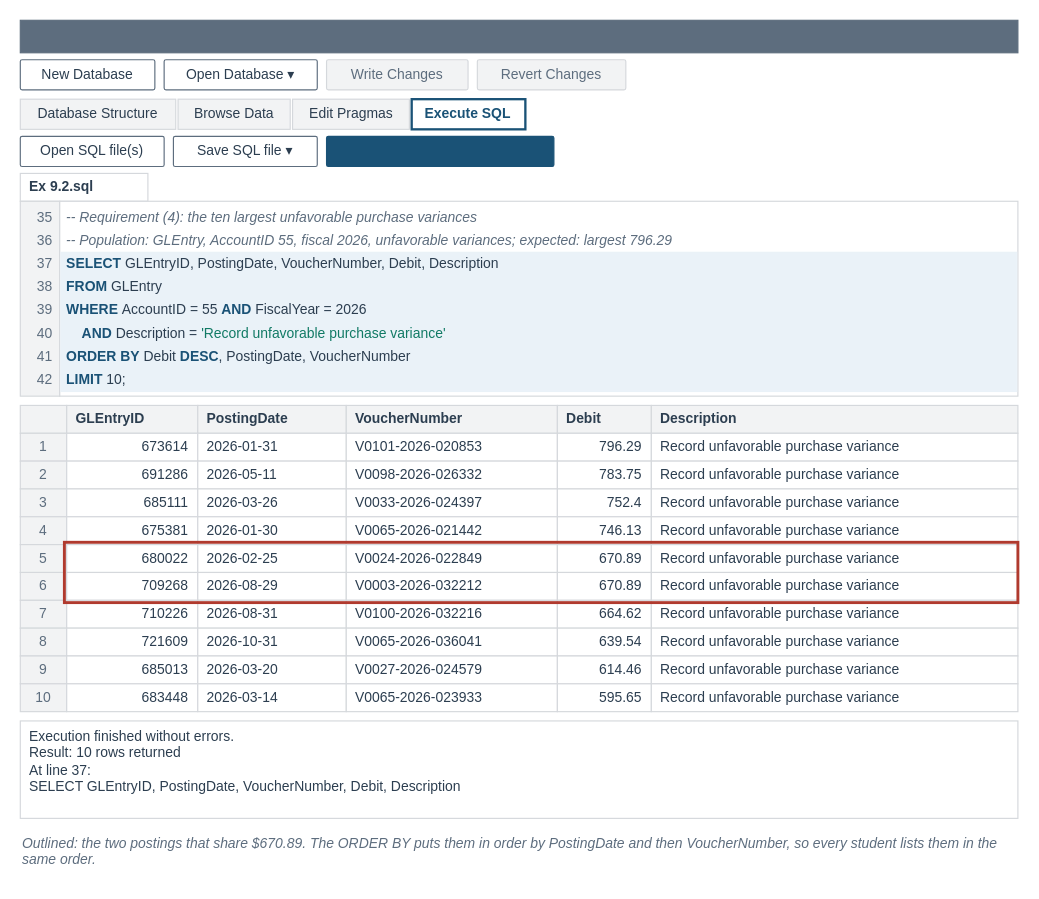
The diagram is 1039 pixels wide and 899 high, and some of its shapes have lost their labels. The shapes that lost their labels are listed below. From the top down, each one's centre as x and y in pixels, then its label:
point (518, 36): DB Browser for SQLite - C:\Users\you\Documents\CharlesRiver_Work.sqlite
point (439, 150): ▶ Execute all/selected SQL
